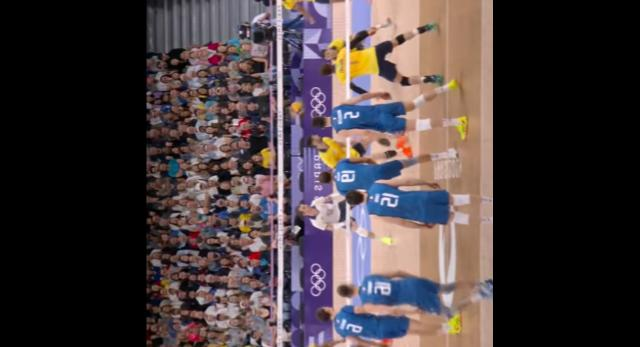Levantador: (318, 40, 421, 82), (317, 302, 424, 340)
Libero: (298, 194, 356, 230)
bola: (288, 99, 304, 116)
